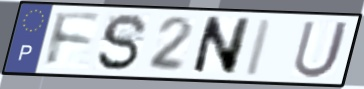2: (146, 15, 196, 75)
F: (43, 9, 103, 70)
I: (241, 16, 276, 78)
N: (188, 15, 254, 77)
S: (94, 12, 150, 73)
U: (290, 19, 353, 81)
